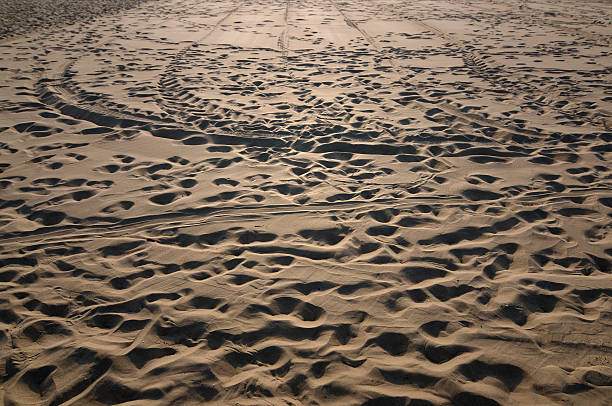human_foot_print: (113, 339, 183, 376), (463, 362, 533, 396), (261, 293, 320, 326), (24, 362, 76, 399), (218, 356, 290, 379), (153, 319, 214, 341), (361, 326, 407, 355), (227, 261, 268, 293), (300, 221, 348, 247), (440, 222, 478, 254), (419, 280, 475, 301), (234, 227, 277, 252), (339, 280, 385, 302), (392, 275, 440, 296), (423, 338, 475, 357), (362, 216, 398, 243), (13, 120, 52, 144), (80, 126, 120, 144), (522, 280, 564, 297), (573, 287, 608, 307), (134, 162, 176, 177), (47, 190, 104, 201), (92, 162, 124, 179), (163, 150, 191, 168), (110, 195, 136, 213), (67, 149, 91, 167), (196, 191, 241, 200), (156, 193, 182, 202), (247, 191, 262, 202)
vehicle_track: (0, 194, 470, 246), (412, 20, 611, 127), (157, 1, 245, 121), (435, 102, 549, 140)
